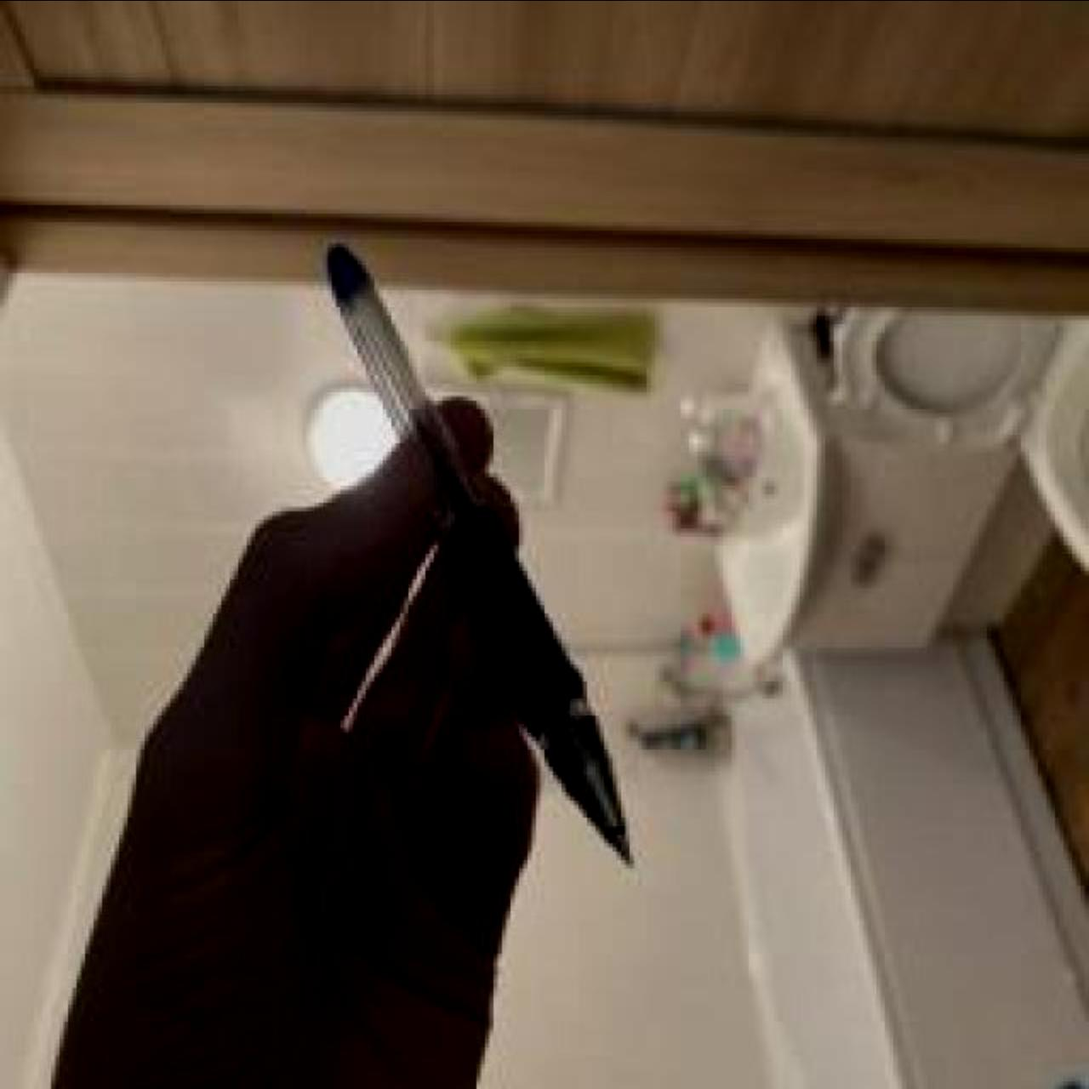pen: (323, 238, 638, 868)
